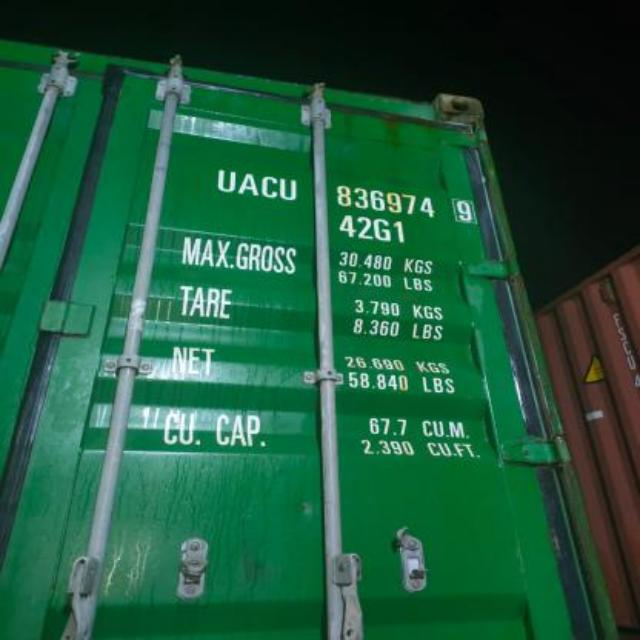3: (352, 176, 368, 212)
4: (419, 188, 439, 222)
6: (368, 178, 386, 212)
7: (401, 184, 419, 216)
8: (332, 176, 350, 210)
9: (452, 193, 478, 231), (385, 183, 401, 215)
A: (238, 166, 262, 202)
C: (260, 166, 278, 202)
U: (214, 160, 238, 196), (279, 170, 299, 204)
